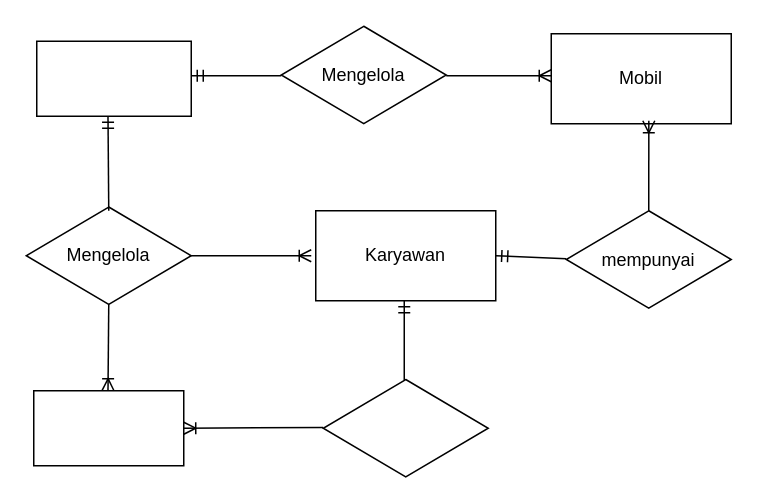
The diagram is 758 pixels wide and 504 high, and some of its shapes have lost their labels. The shapes that lost their labels are listed below. From the top down, each one's centre as x and y in pixels, then its label:
[113,78]: User
[108,427]: perusahaan
[405,427]: Bekerja
